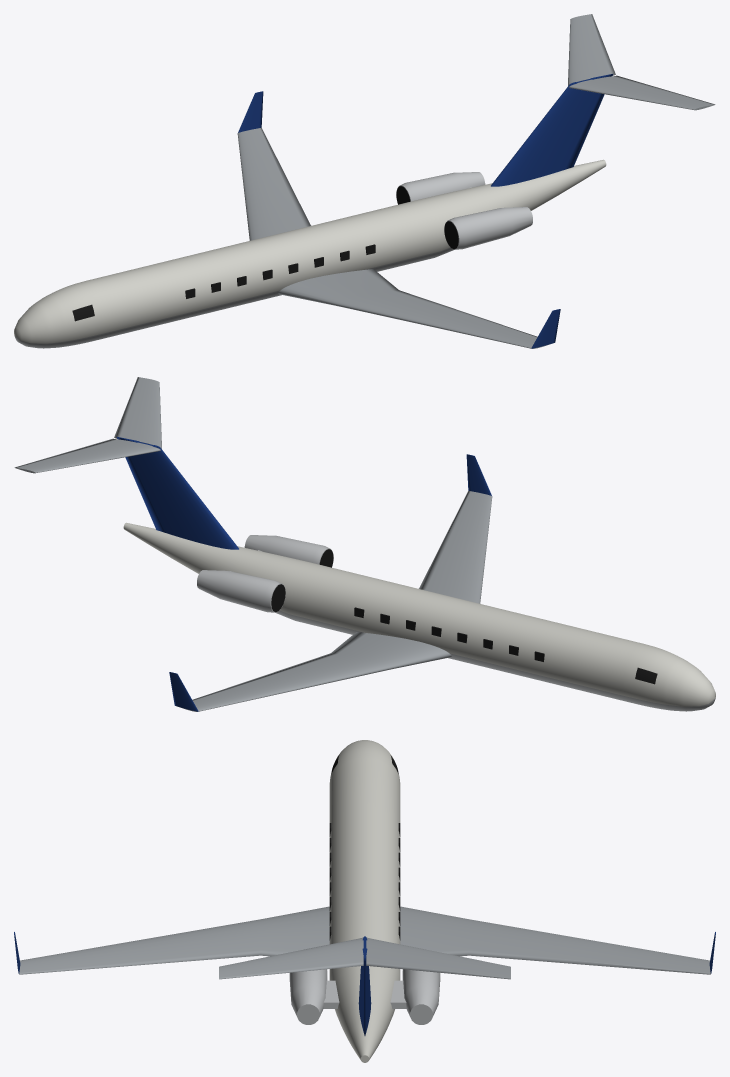
The model's file is glf4.glb.
The picture shows the model from 3 angles, top to bottom: view 1: azimuth 30°, elevation 25°; view 2: azimuth 150°, elevation 25°; view 3: azimuth 270°, elevation 25°; orthographic projection. The views are drawn at different scales.
Visible parts, largest first — view 1: glf4; view 2: glf4; view 3: glf4.
Boxes of the visible parts, x1,y1,x2,y2 form: glf4: (14, 14, 715, 348); glf4: (14, 377, 715, 711); glf4: (14, 740, 715, 1062).
Bounding box in the file's own units: 29.19 × 6.21 × 23.58.
